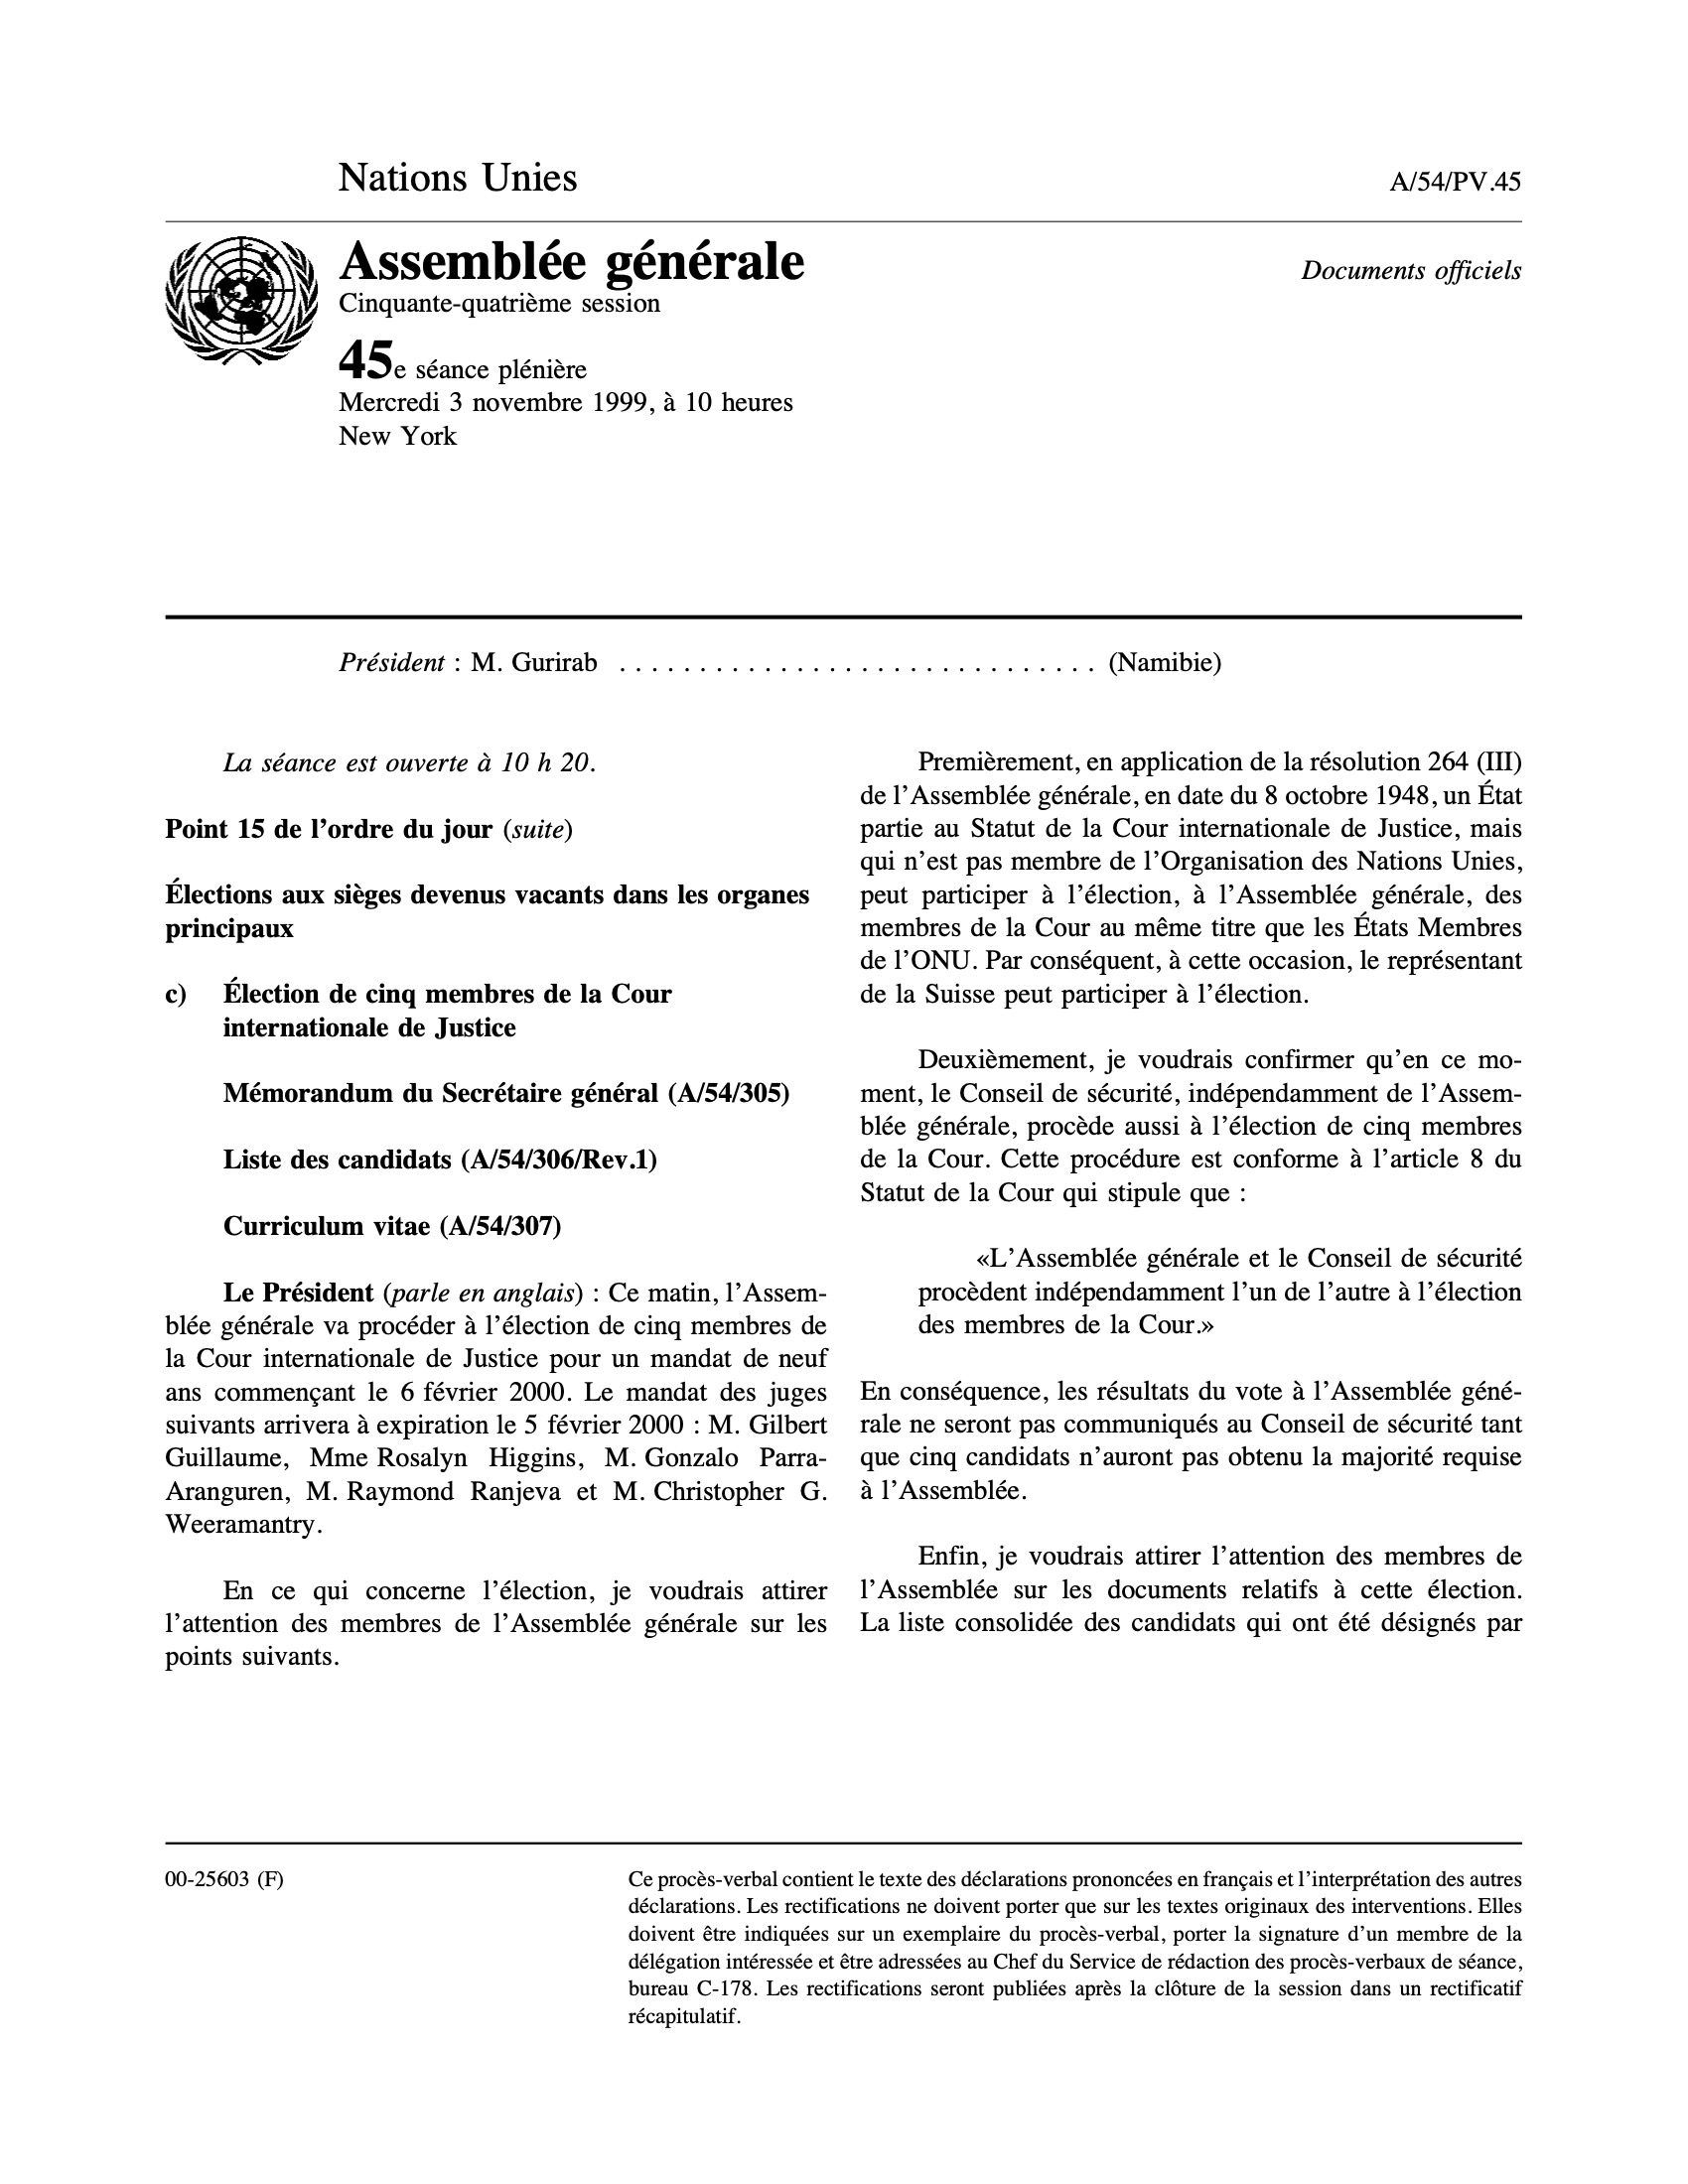GraphicZone: (161, 232, 314, 371)
MainZone-Head: (278, 223, 826, 465), (154, 877, 810, 944), (158, 811, 584, 847), (1289, 246, 1533, 298)
MainZone-ListItem: (149, 970, 687, 1039), (214, 1071, 805, 1116), (214, 1137, 671, 1178), (217, 1204, 575, 1252)
MainZone-Other: (326, 646, 1236, 686)
MainZone-P: (852, 742, 1530, 1014), (155, 1275, 833, 1547), (853, 1042, 1530, 1213), (856, 1372, 1531, 1508), (856, 1536, 1535, 1653), (158, 1570, 835, 1684), (904, 1240, 1529, 1343), (211, 741, 611, 782)
MarginTextZone-Notes: (615, 1861, 1534, 2044)
StampZone: (323, 151, 589, 205), (1377, 155, 1532, 205)
TitlePageZone: (155, 1863, 291, 1893)
